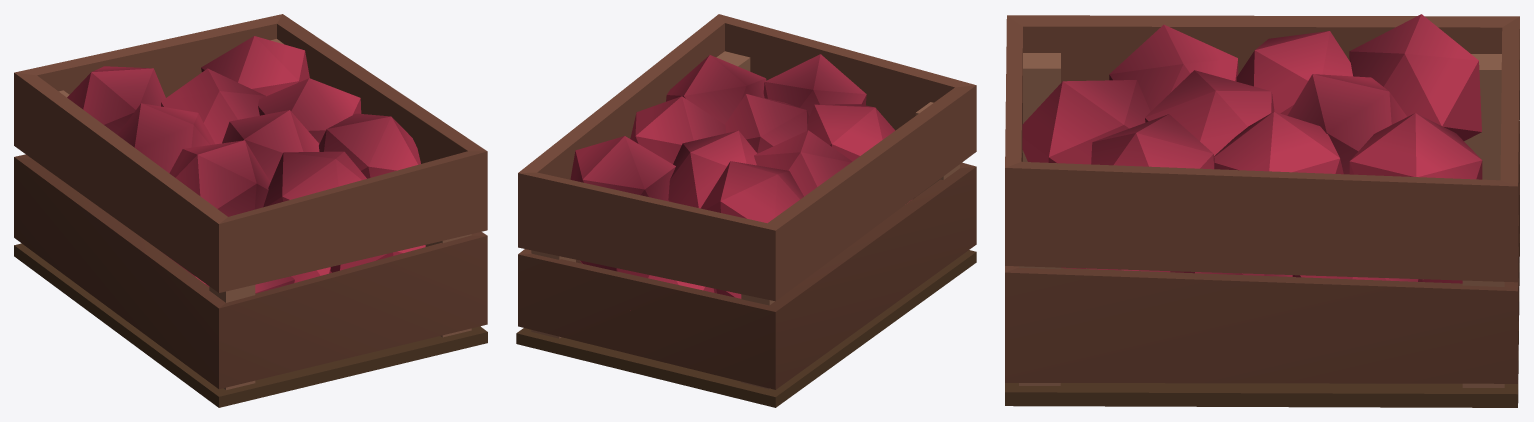
The model's file is Fruit 1.glb.
The picture shows the model from 3 angles, left to right: view 1: azimuth 30°, elevation 25°; view 2: azimuth 150°, elevation 25°; view 3: azimuth 270°, elevation 25°; orthographic projection. The views are drawn at different scales.
Parts seen in each view (by area): view 1: Fruit 1; view 2: Fruit 1; view 3: Fruit 1.
Part boxes in pixels (x1,y1,x2,y2): Fruit 1: (14, 14, 487, 407); Fruit 1: (516, 14, 976, 407); Fruit 1: (1005, 14, 1519, 407).
Size of what is drawn, in the model's own units: 0.4671 by 0.3357 by 0.6183.
Materials: 1 (1 with a texture image).
